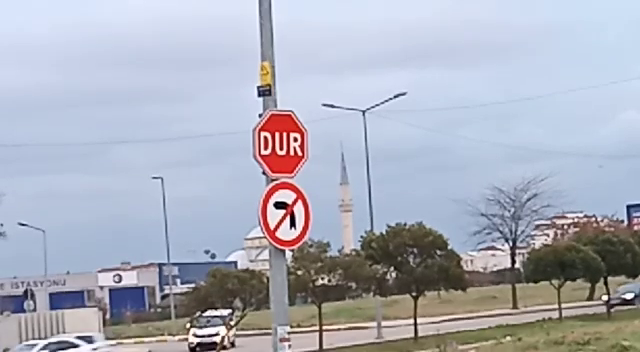no_left: (257, 178, 314, 253)
stop: (250, 107, 312, 180)
